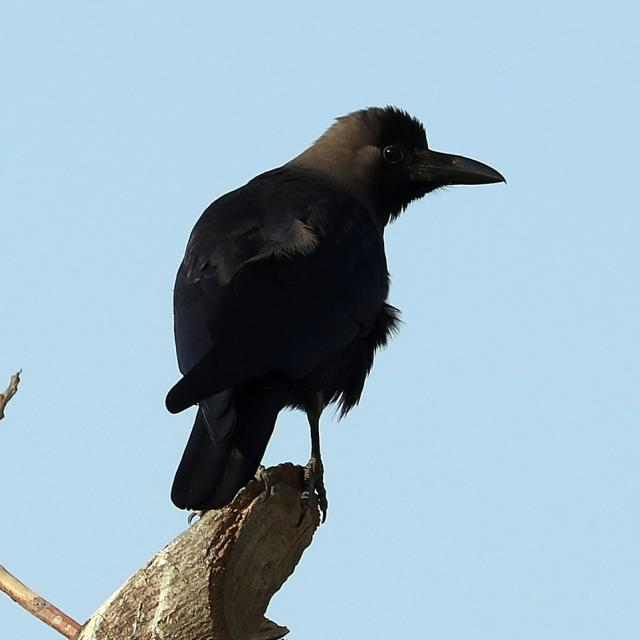bird: (153, 92, 518, 542)
